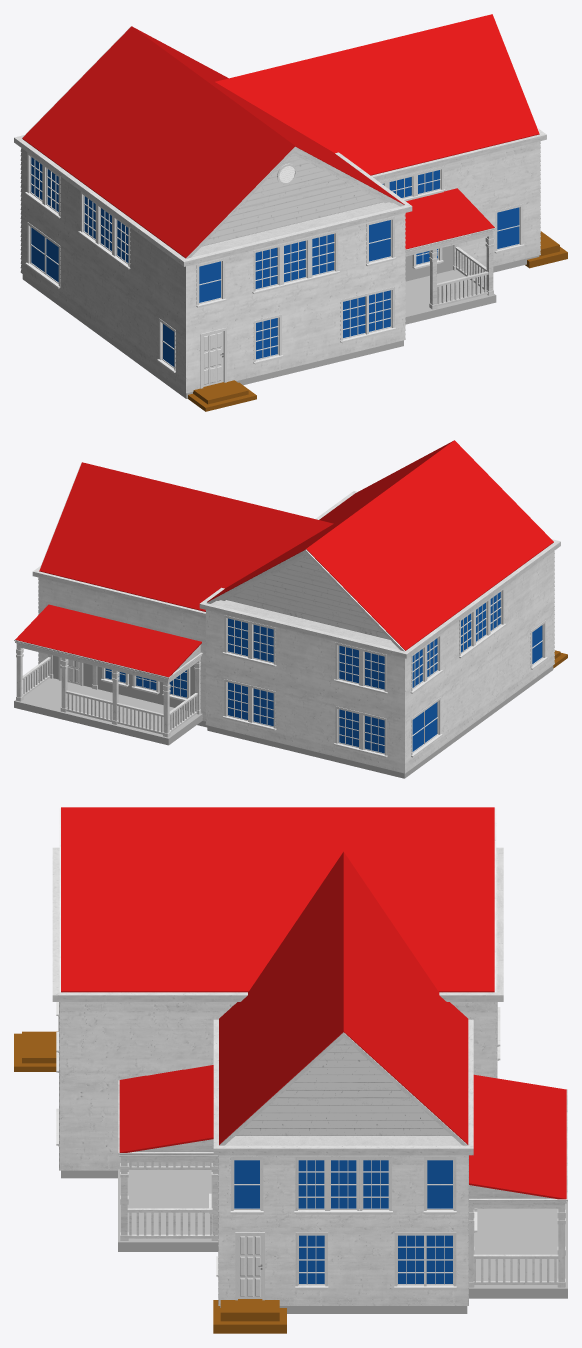
The model's file is HOUSES-C-2.FBX.
3 renders of one model, top to bottom at view 1: azimuth 30°, elevation 25°; view 2: azimuth 150°, elevation 25°; view 3: azimuth 270°, elevation 25°, orthographic. The views are drawn at different scales.
Visible parts, largest first — view 1: HOUSE-MAIN001, HOUSE-MAIN002, BOARDS001, W-21, BOARDS-2, ENTER1, ENTER2; view 2: HOUSE-MAIN001, BOARDS001, HOUSE-MAIN002, W-23, BOARDS-2; view 3: HOUSE-MAIN002, HOUSE-MAIN001, W-23, BOARDS-2, BOARDS001, W-21, ENTER2, ENTER1.
Part boxes in pixels (<box>): HOUSE-MAIN001: <box>14,26,412,398</box>; HOUSE-MAIN002: <box>215,14,546,275</box>; BOARDS001: <box>20,148,405,393</box>; W-21: <box>405,188,496,324</box>; BOARDS-2: <box>378,141,540,272</box>; ENTER1: <box>188,380,256,411</box>; ENTER2: <box>525,231,567,268</box>; HOUSE-MAIN001: <box>199,440,560,778</box>; BOARDS001: <box>205,551,554,773</box>; HOUSE-MAIN002: <box>32,462,333,727</box>; W-23: <box>14,604,202,745</box>; BOARDS-2: <box>38,577,205,721</box>; HOUSE-MAIN002: <box>213,851,473,1313</box>; HOUSE-MAIN001: <box>52,807,503,1178</box>; W-23: <box>469,1074,567,1298</box>; BOARDS-2: <box>218,1155,468,1305</box>; BOARDS001: <box>59,1002,497,1170</box>; W-21: <box>118,1065,218,1251</box>; ENTER2: <box>213,1299,286,1333</box>; ENTER1: <box>14,1031,57,1071</box>.
Size of the model in its own units: 1880 by 953 by 1531.
